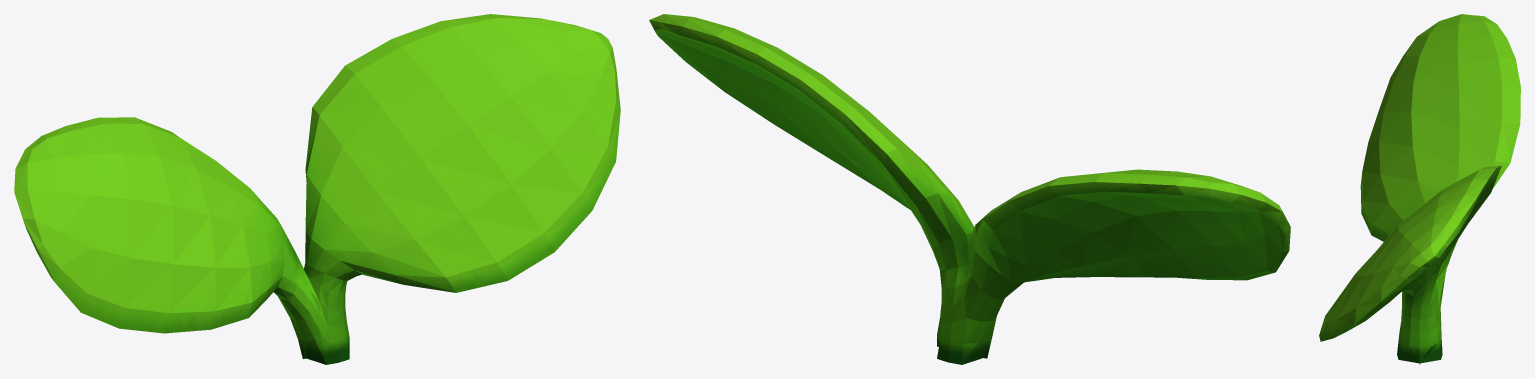
File: sprout.obj
3 renders of one model, left to right at view 1: azimuth 30°, elevation 25°; view 2: azimuth 150°, elevation 25°; view 3: azimuth 270°, elevation 25°, orthographic. The views are drawn at different scales.
Parts seen in each view (by area): view 1: Baby___Futabatchi2:Mesh; view 2: Baby___Futabatchi2:Mesh; view 3: Baby___Futabatchi2:Mesh.
Boxes of the visible parts, x1,y1,x2,y2 form: Baby___Futabatchi2:Mesh: [14, 14, 620, 364]; Baby___Futabatchi2:Mesh: [649, 14, 1290, 364]; Baby___Futabatchi2:Mesh: [1319, 14, 1520, 364].
Bounding box in the file's own units: 0.3471 × 0.1525 × 0.1138.
1 material, 1 textured.
